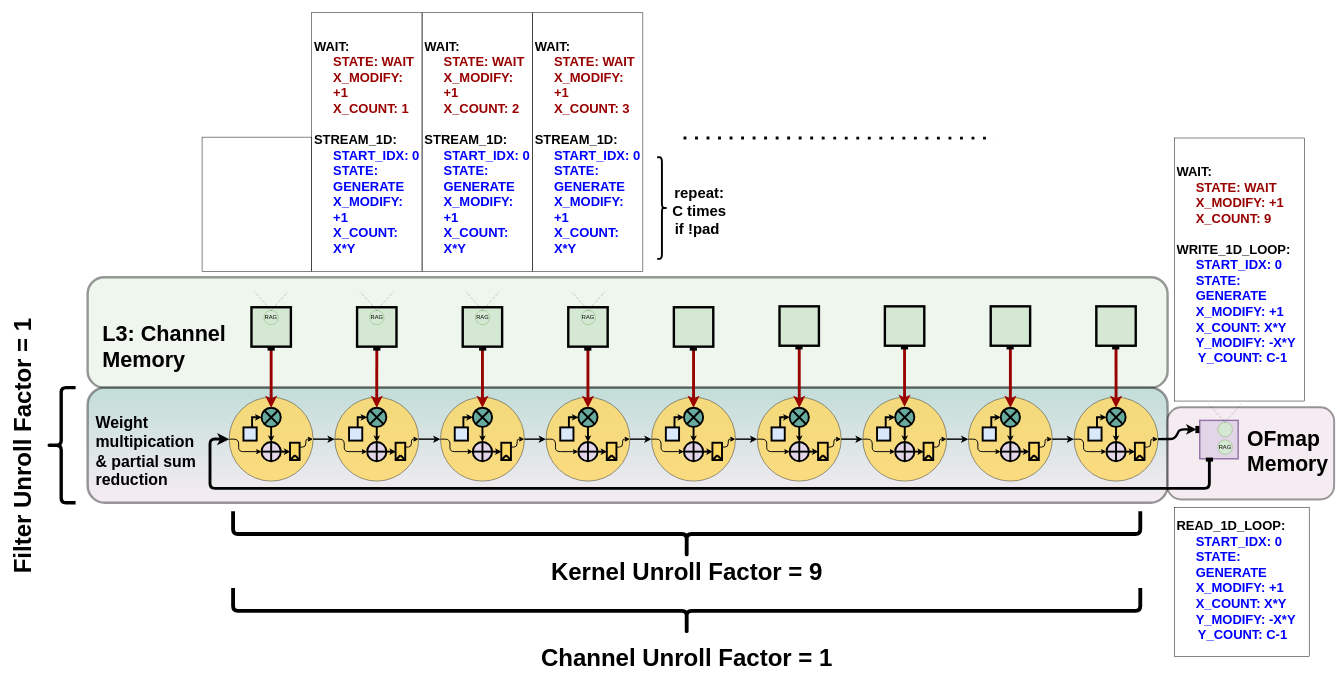
Some shapes in this 1343 by 681 pixel diagram are drawn without their labels. Here are the shapes that lost their labels. From the top down, the centre of each, then its label:
At [257,204]: "STREAM_1D: START_IDX: 0 STATE: GENERATE X_MODIFY: +1 X_COUNT: X*Y".
At [1225,429]: "WAG".
